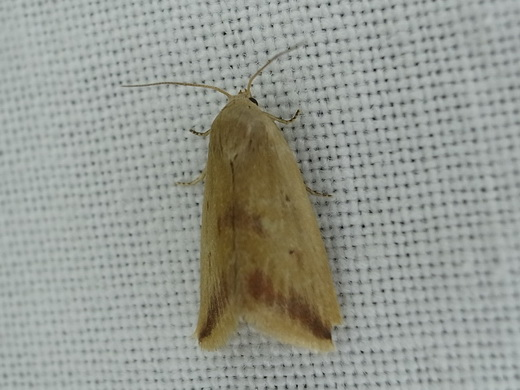Noctuidae: (120, 37, 348, 356)
